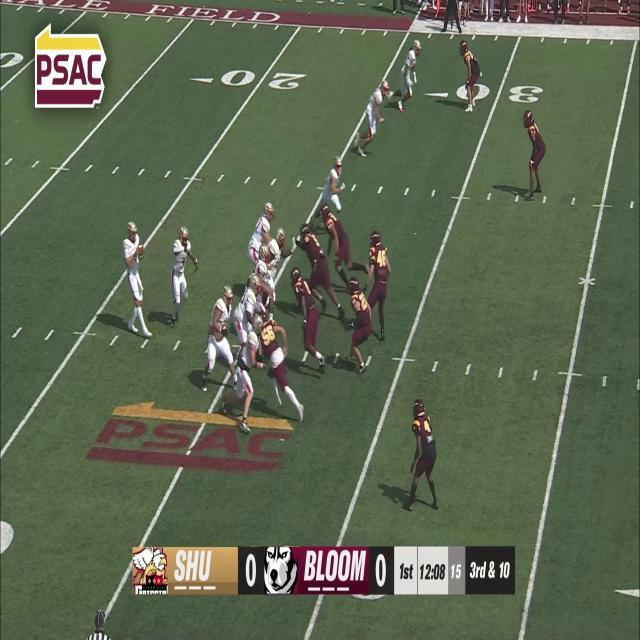football: (136, 243, 145, 260)
